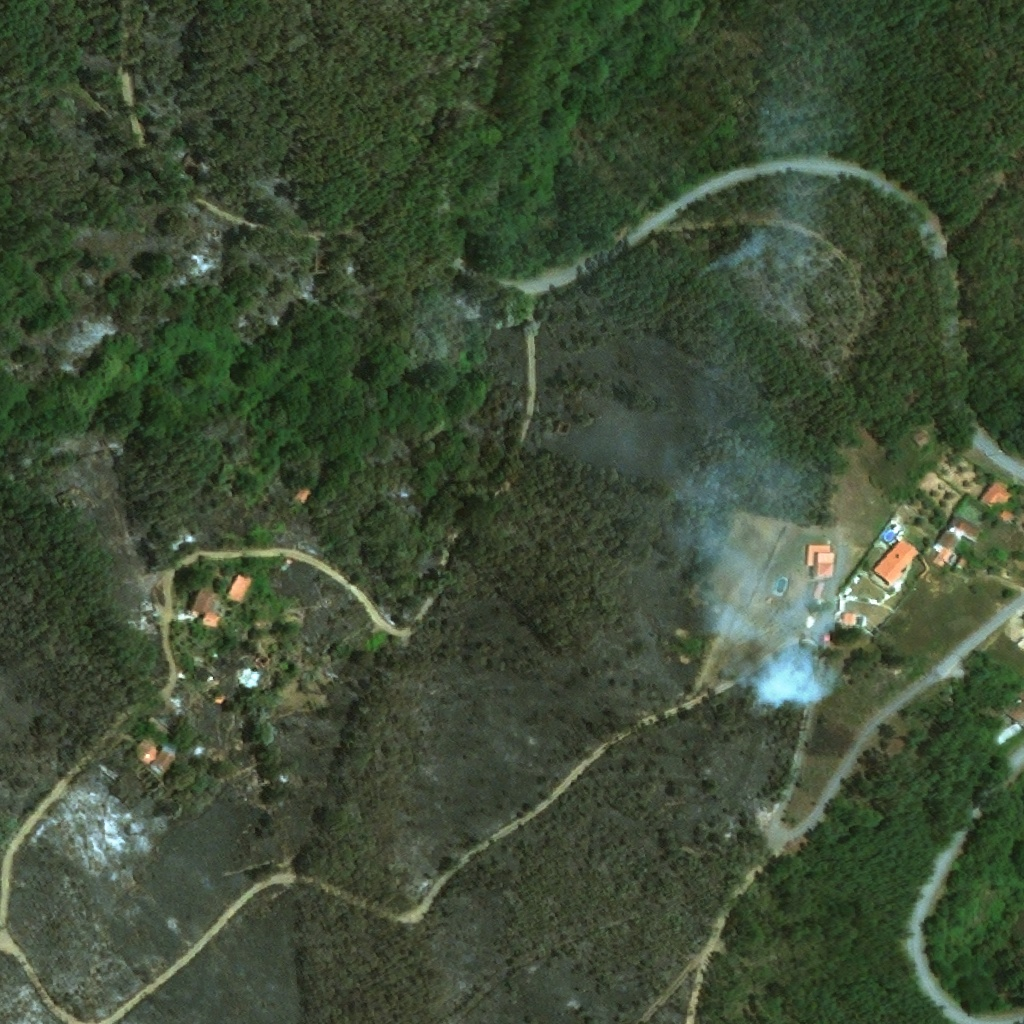0 no-damage: (929, 517, 980, 569), (871, 540, 918, 588), (184, 590, 217, 629), (805, 546, 833, 581), (976, 483, 1010, 509), (222, 575, 250, 605), (147, 747, 173, 775), (136, 745, 156, 766), (909, 432, 927, 450), (952, 556, 968, 573), (190, 669, 208, 684), (293, 489, 309, 505), (811, 583, 823, 600), (840, 614, 854, 628), (997, 511, 1012, 524), (209, 694, 222, 705), (280, 559, 289, 569)
3 destroyed: (253, 654, 269, 670), (554, 421, 568, 435), (251, 780, 267, 787)
4 un-classified: (1003, 689, 1023, 727)
